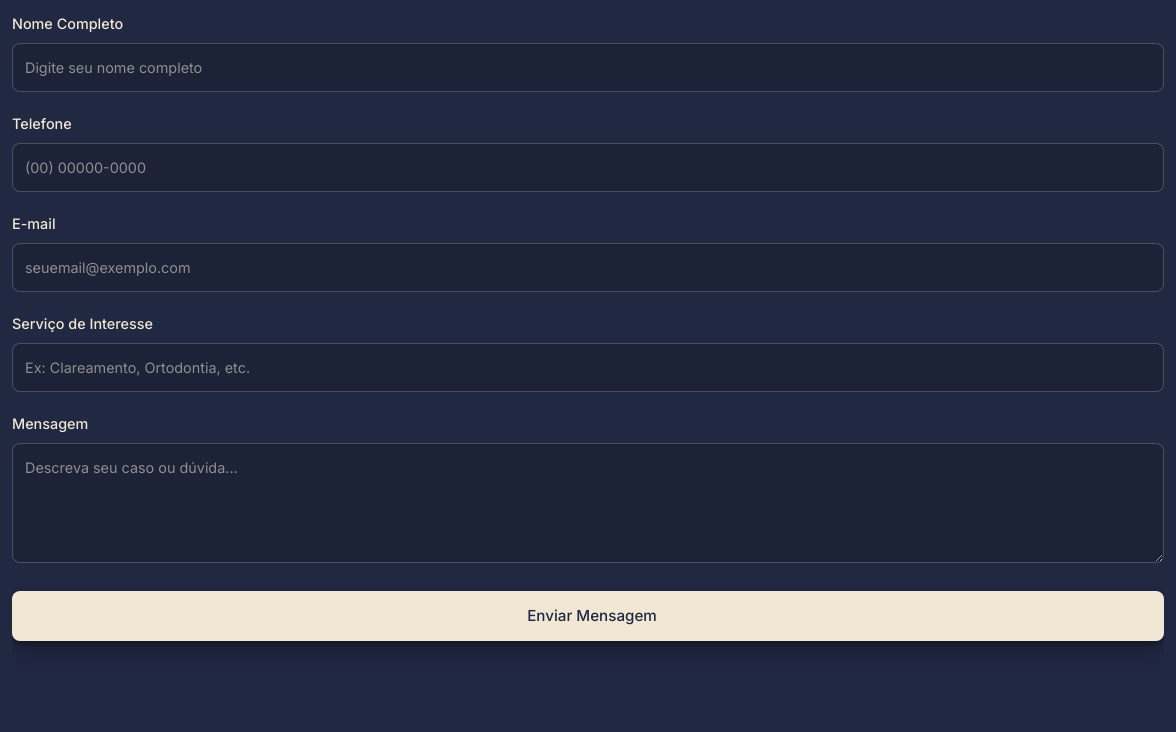
ContactForm › mostra erro de conexão quando o fetch falha
Click the button "Enviar Mensagem".
click(588, 616)  # box top-left (12, 591), bottom-right (1164, 641)
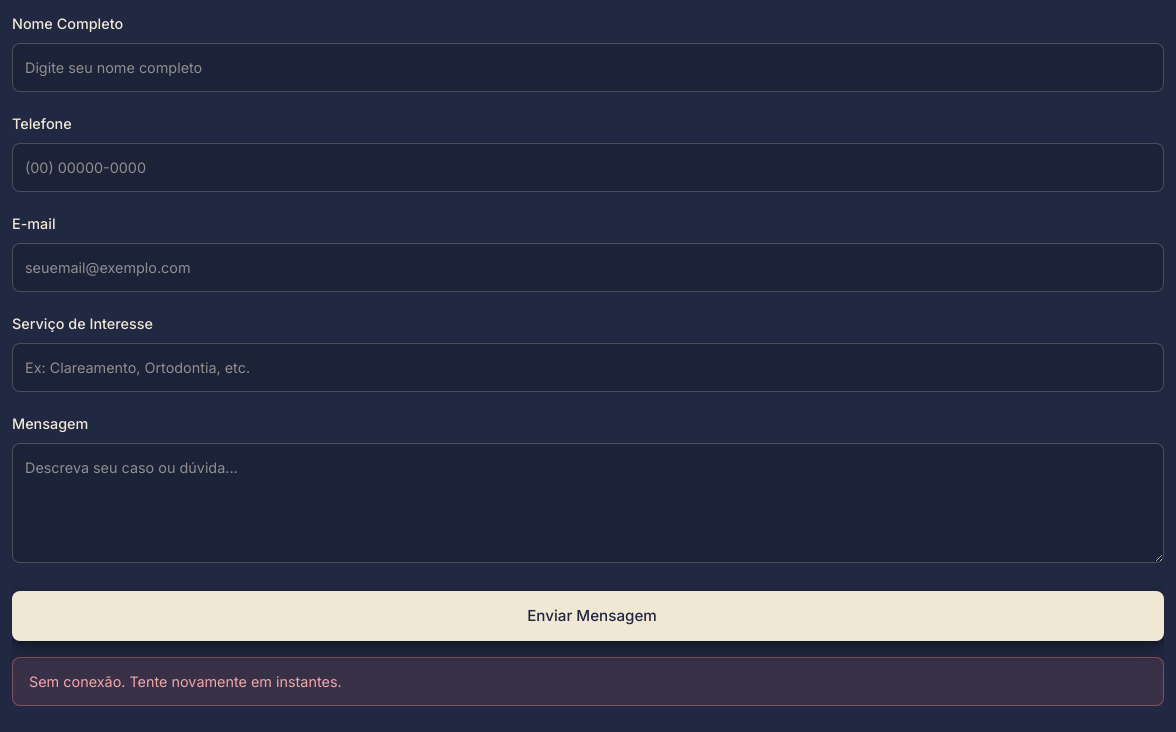
Now the message shows "Sem conexão", box top-left (29, 673), bottom-right (342, 690)
